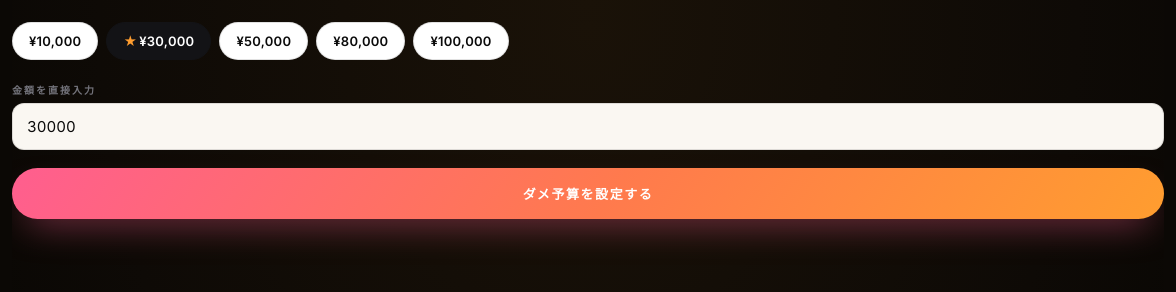
BudgetForm (LC-BUDGET-12) › VR-B-01 違反 (上限超過) でバリデーションエラー
Replace the text in the number field with test id "budget-input" with "200000" at (588, 126), box 12,103 -> 1164,150
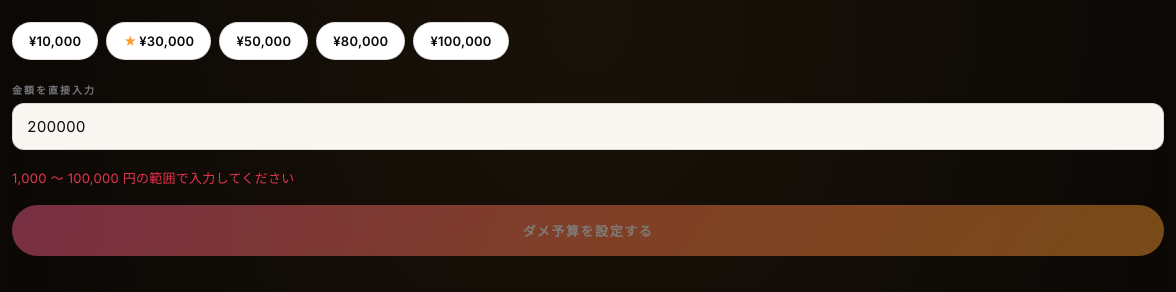
Check: the message with test id "budget-validation-error" shows "範囲", box 12,170 -> 294,186
